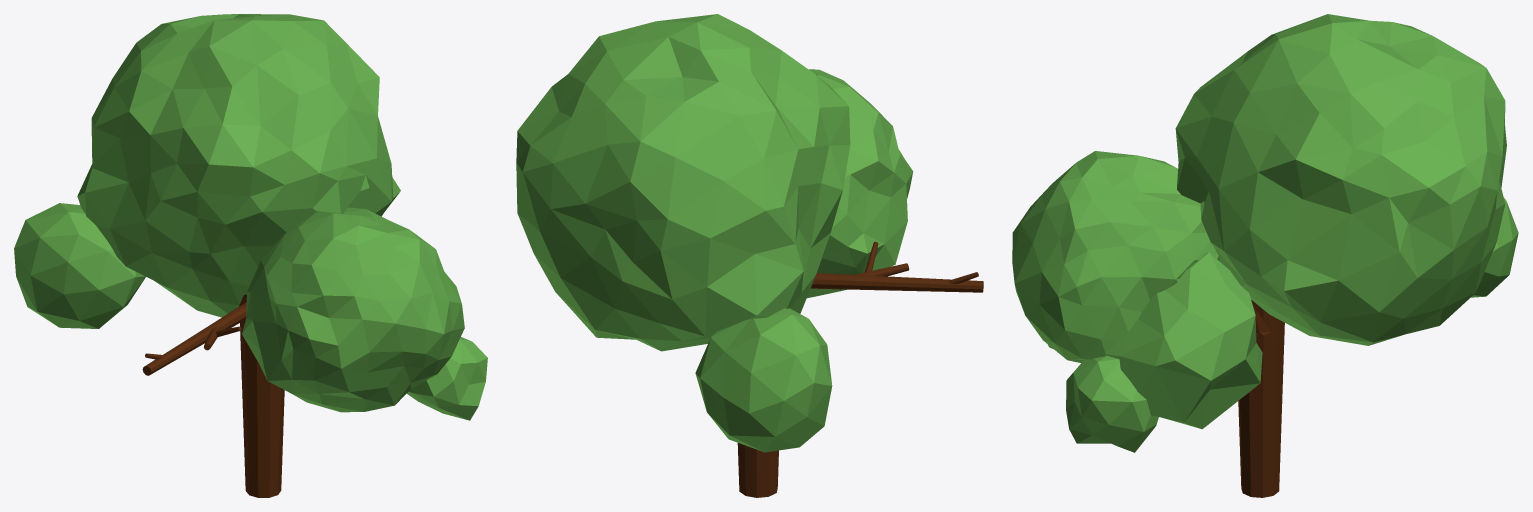
The model's file is tree.fbx.
3 views of the same model, side by side, from view 1: azimuth 30°, elevation 25°; view 2: azimuth 150°, elevation 25°; view 3: azimuth 270°, elevation 25° (orthographic). The views are drawn at different scales.
Visible parts, largest first — view 1: Icosphere; view 2: Icosphere; view 3: Icosphere.
Part boxes in pixels (x1,y1,x2,y2): Icosphere: (14,14,487,497); Icosphere: (516,14,983,497); Icosphere: (1012,14,1518,497).
Size of the model in its own units: 454 by 601 by 577.
